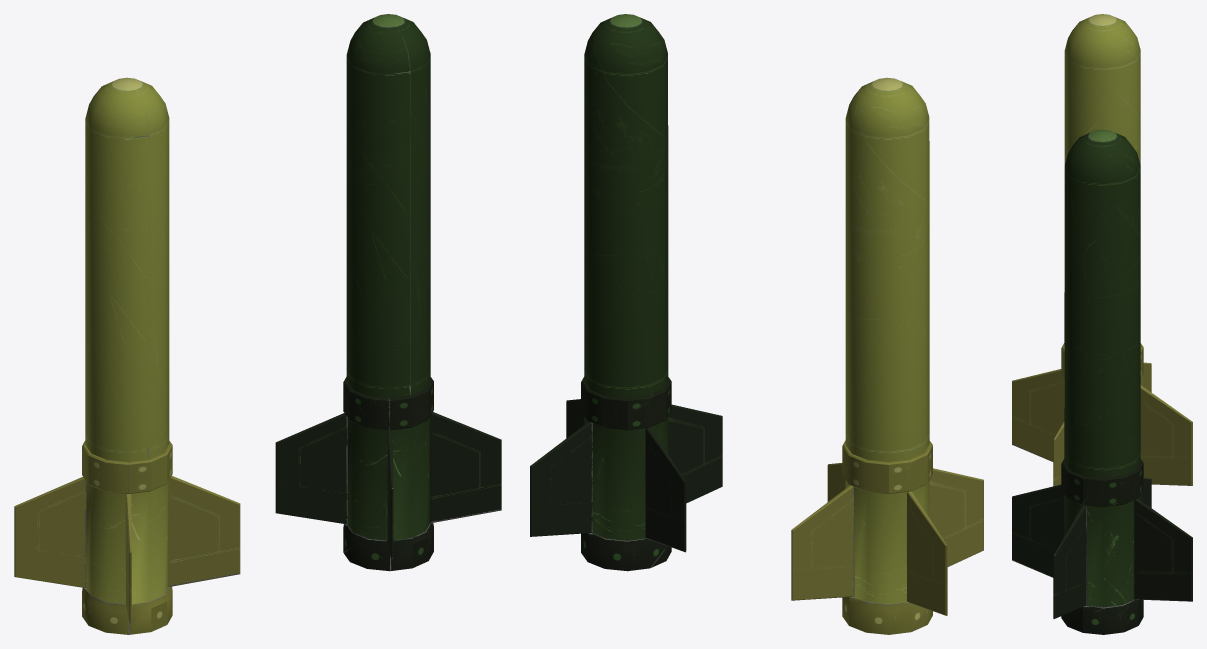
The model's file is Missiles.fbx.
The picture shows the model from 3 angles, left to right: view 1: azimuth 30°, elevation 25°; view 2: azimuth 150°, elevation 25°; view 3: azimuth 270°, elevation 25°; orthographic projection. The views are drawn at different scales.
Parts seen in each view (by area): view 1: missile; view 2: missile; view 3: missile.
Boxes of the visible parts, x1,y1,x2,y2 form: missile: [14, 14, 501, 634]; missile: [530, 14, 983, 634]; missile: [1012, 14, 1192, 634].
Bounding box in the file's own units: 57.3 × 67.41 × 22.79.
Materials: 2 (2 with a texture image).
